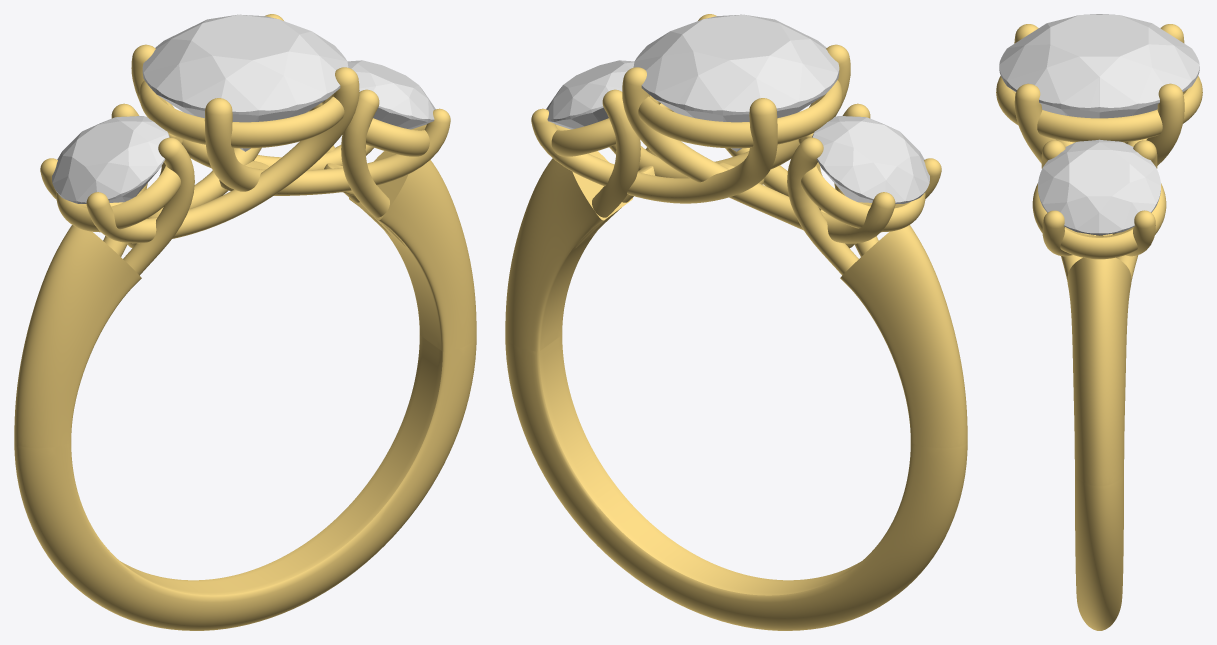
Rendered from Samv3YGeng_blender.glb.
3 views of the same model, side by side, from view 1: azimuth 30°, elevation 25°; view 2: azimuth 150°, elevation 25°; view 3: azimuth 270°, elevation 25° (orthographic). The views are drawn at different scales.
Visible parts, largest first — view 1: v3 Sam YG for 3d model, Sam dia for 3d model.002, Sam dia for 3d model.001, Sam dia for 3d model; view 2: v3 Sam YG for 3d model, Sam dia for 3d model.002, Sam dia for 3d model.001, Sam dia for 3d model; view 3: v3 Sam YG for 3d model, Sam dia for 3d model.002, Sam dia for 3d model.
Part boxes in pixels (x1=…): v3 Sam YG for 3d model: x1=14, y1=14, x2=476, y2=630; Sam dia for 3d model.002: x1=142, y1=14, x2=348, y2=151; Sam dia for 3d model.001: x1=52, y1=116, x2=169, y2=203; Sam dia for 3d model: x1=347, y1=60, x2=435, y2=129; v3 Sam YG for 3d model: x1=505, y1=14, x2=967, y2=630; Sam dia for 3d model.002: x1=633, y1=14, x2=839, y2=151; Sam dia for 3d model.001: x1=812, y1=116, x2=929, y2=203; Sam dia for 3d model: x1=546, y1=60, x2=634, y2=129; v3 Sam YG for 3d model: x1=996, y1=24, x2=1202, y2=630; Sam dia for 3d model.002: x1=999, y1=14, x2=1199, y2=118; Sam dia for 3d model: x1=1038, y1=139, x2=1160, y2=235.
Size of the model in its own units: 20.92 by 25.55 by 8.39.
